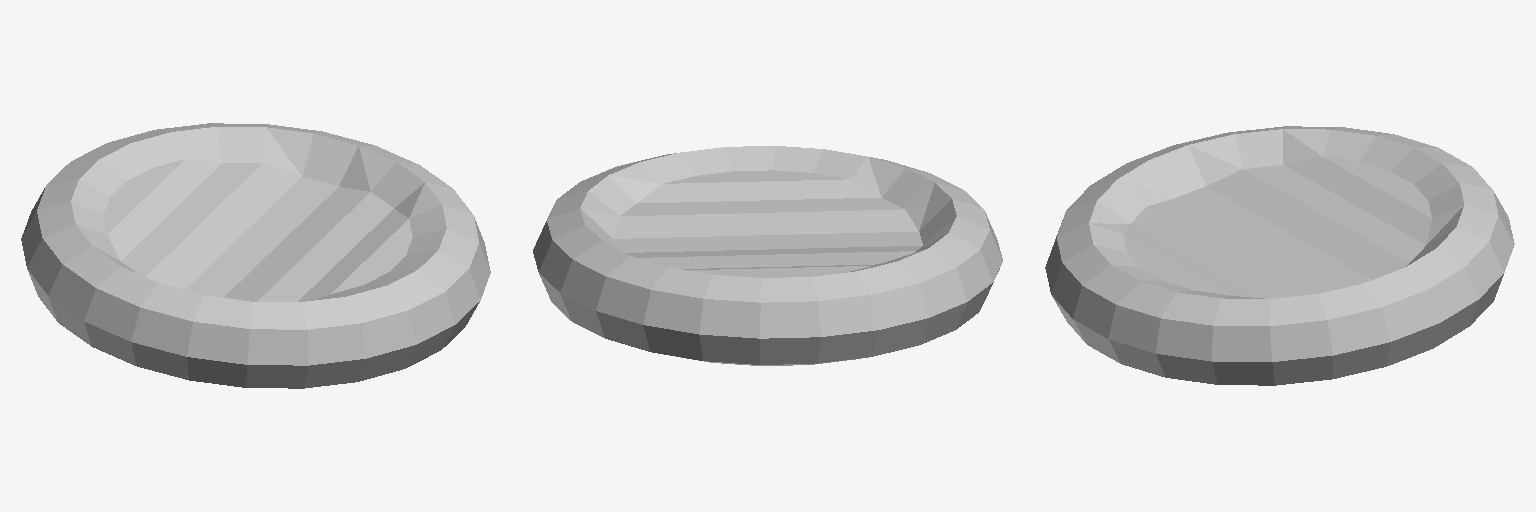
File: redcell.obj
3 renders of one model, left to right at view 1: azimuth 30°, elevation 25°; view 2: azimuth 150°, elevation 25°; view 3: azimuth 270°, elevation 25°, orthographic.
Visible parts, largest first — view 1: redCell; view 2: redCell; view 3: redCell.
Boxes of the visible parts, <box> form: redCell: <box>21,123,490,388</box>; redCell: <box>533,146,1002,365</box>; redCell: <box>1045,126,1514,385</box>.
Size of the model in its own units: 2.5 by 0.6528 by 2.49.